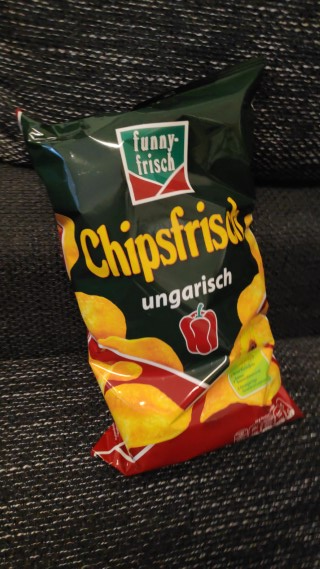chipsfrisch: (13, 56, 306, 479)
